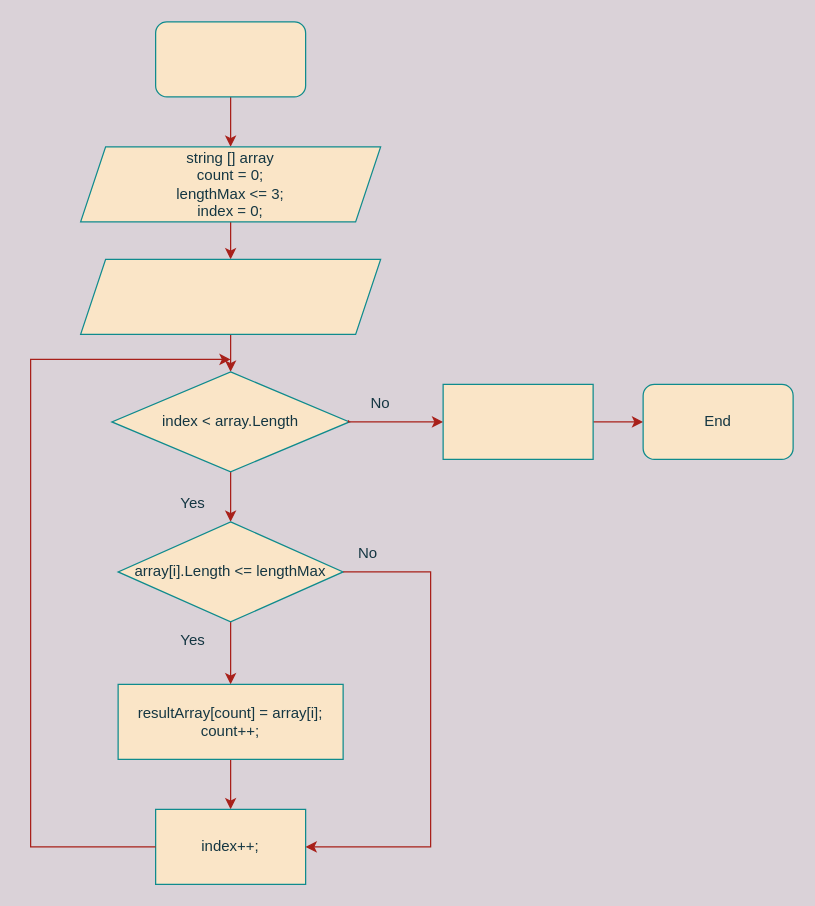
The diagram is 815 pixels wide and 906 high, and some of its shapes have lost their labels. Each missing label, with the centre of its shape:
"Print resultArray" goes at (x=517, y=421).
"Star" goes at (x=230, y=59).
"string [] resultArray = new string [array.Length]" goes at (x=230, y=296).
